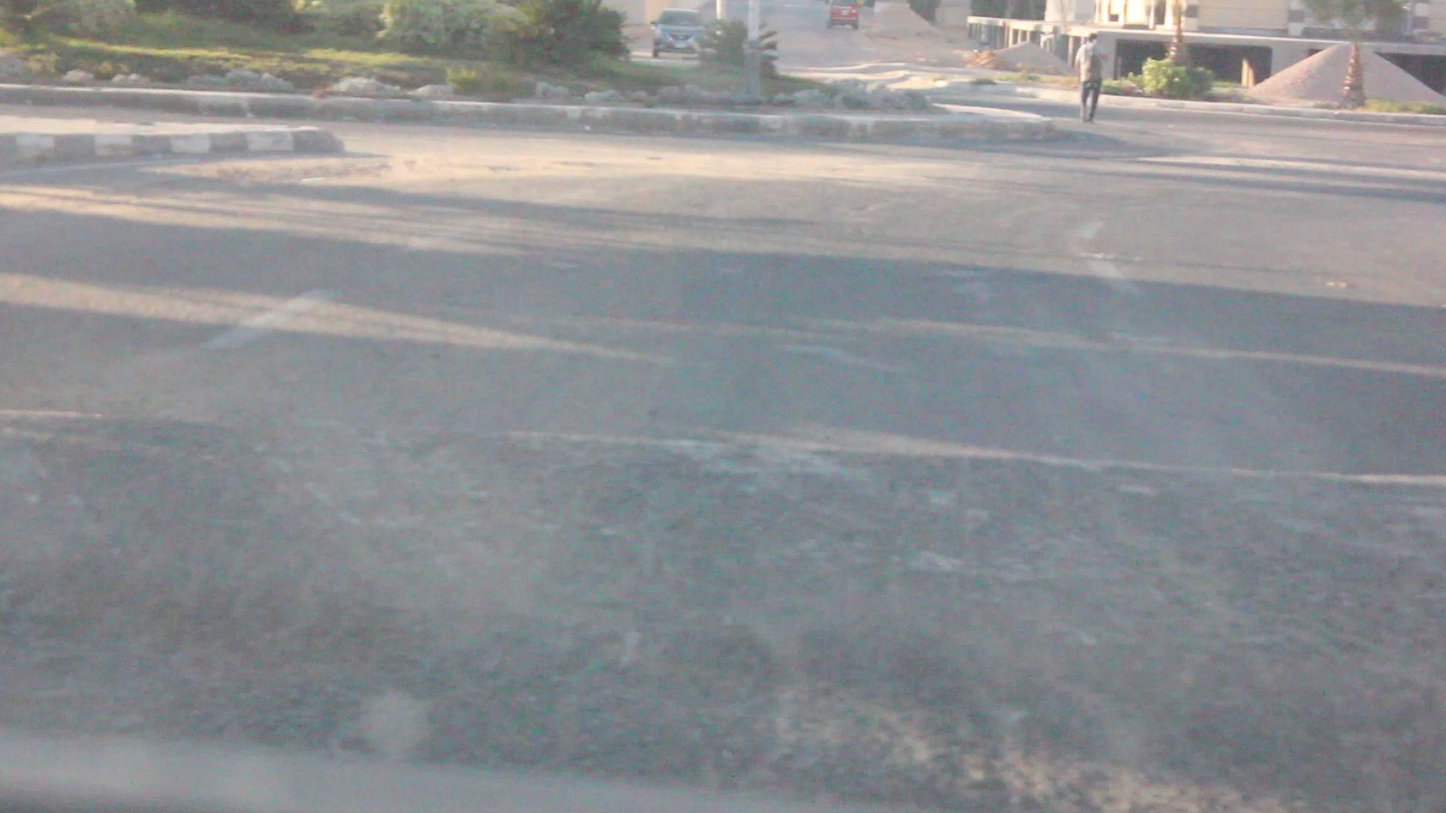Bump: (4, 415, 1445, 812)
